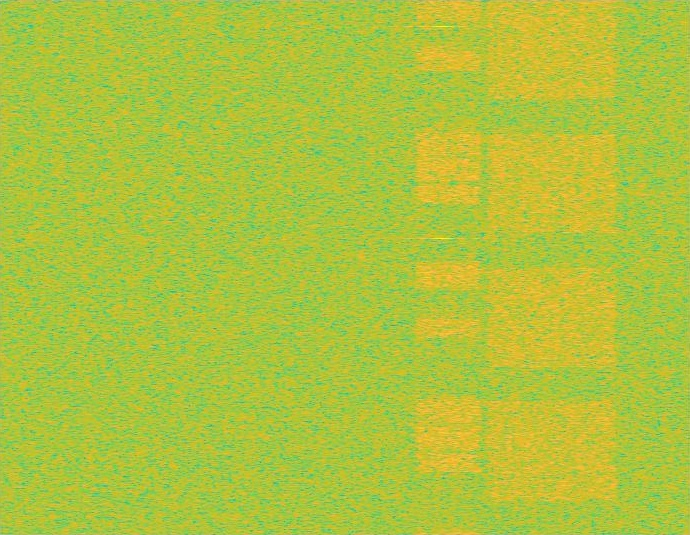5G: (483, 0, 621, 534)
LTE: (414, 0, 483, 534)
Radar: (436, 0, 450, 534)
